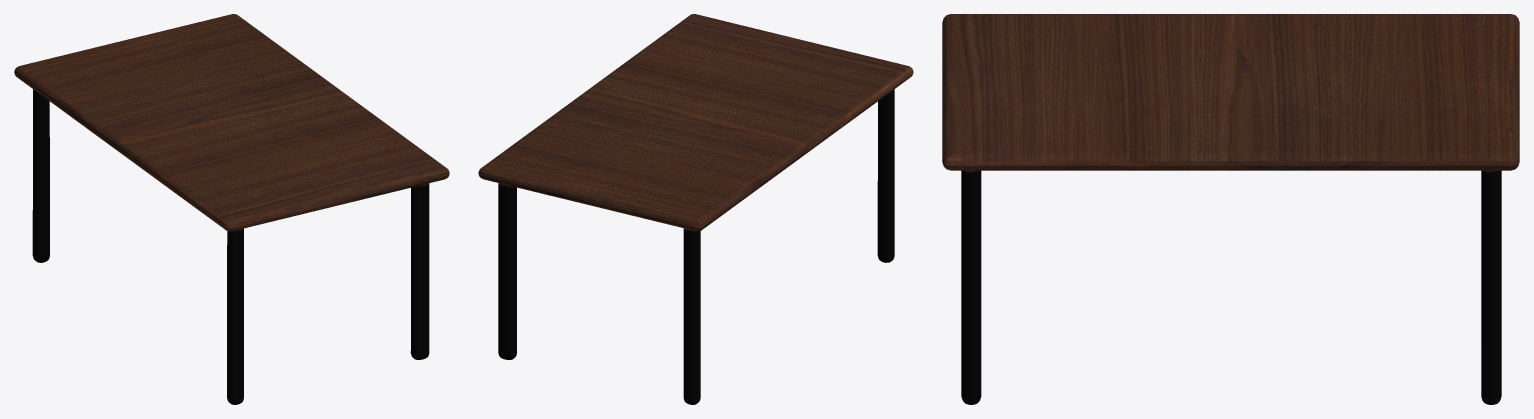
File: table.glb
3 views of the same model, side by side, from view 1: azimuth 30°, elevation 25°; view 2: azimuth 150°, elevation 25°; view 3: azimuth 270°, elevation 25° (orthographic). The views are drawn at different scales.
Parts seen in each view (by area): view 1: Cube; view 2: Cube; view 3: Cube.
Boxes of the visible parts, <box> form: Cube: <box>14,14,449,404</box>; Cube: <box>478,14,913,404</box>; Cube: <box>942,14,1519,404</box>.
Size of the model in its own units: 3.79 by 3.11 by 6.3.
Materials: 2 (1 with a texture image).
